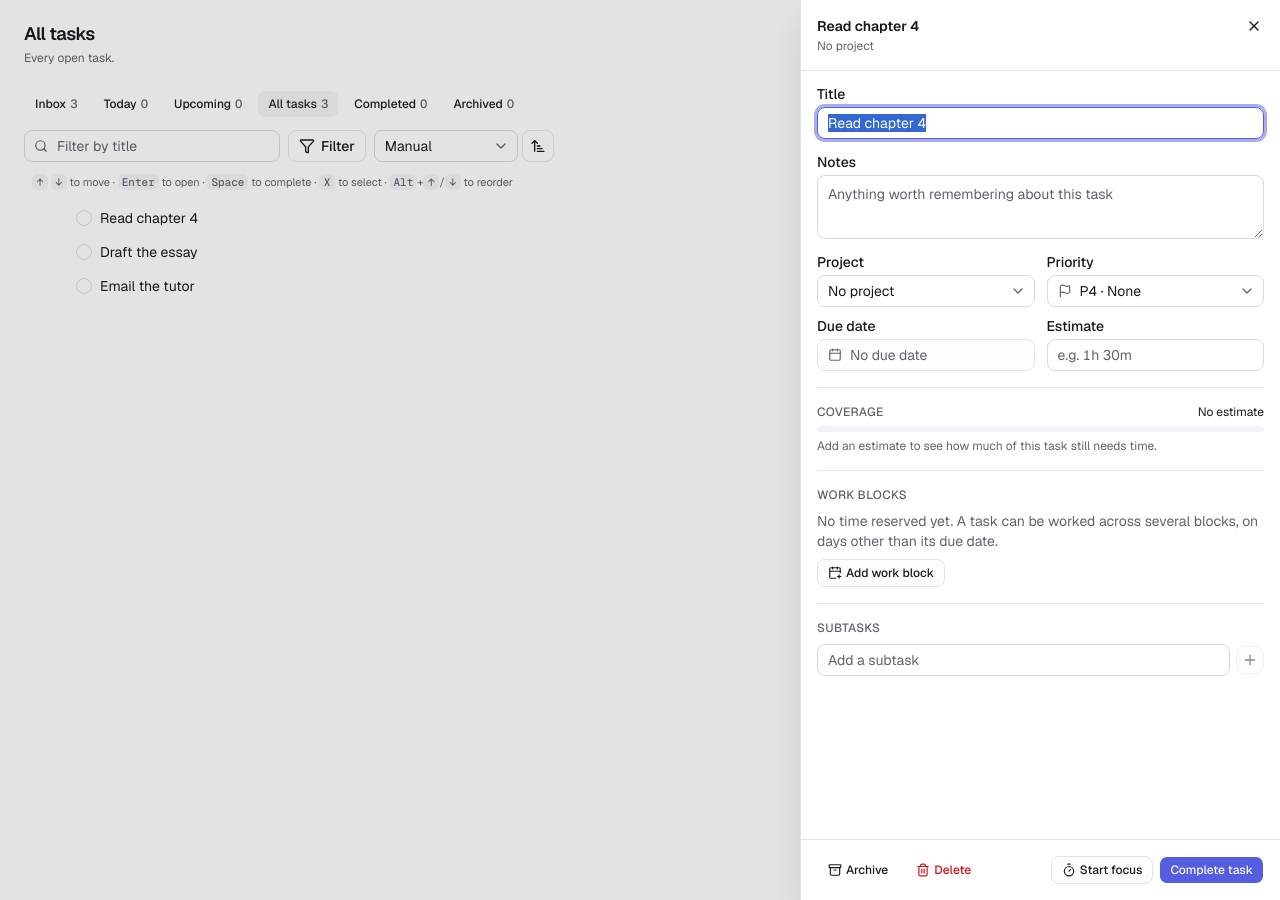
Test: bulk selection › files the open task into a project created from the sheet's picker
Click the dropdown labelled "project": x=926, y=291 [817,275,1034,307]
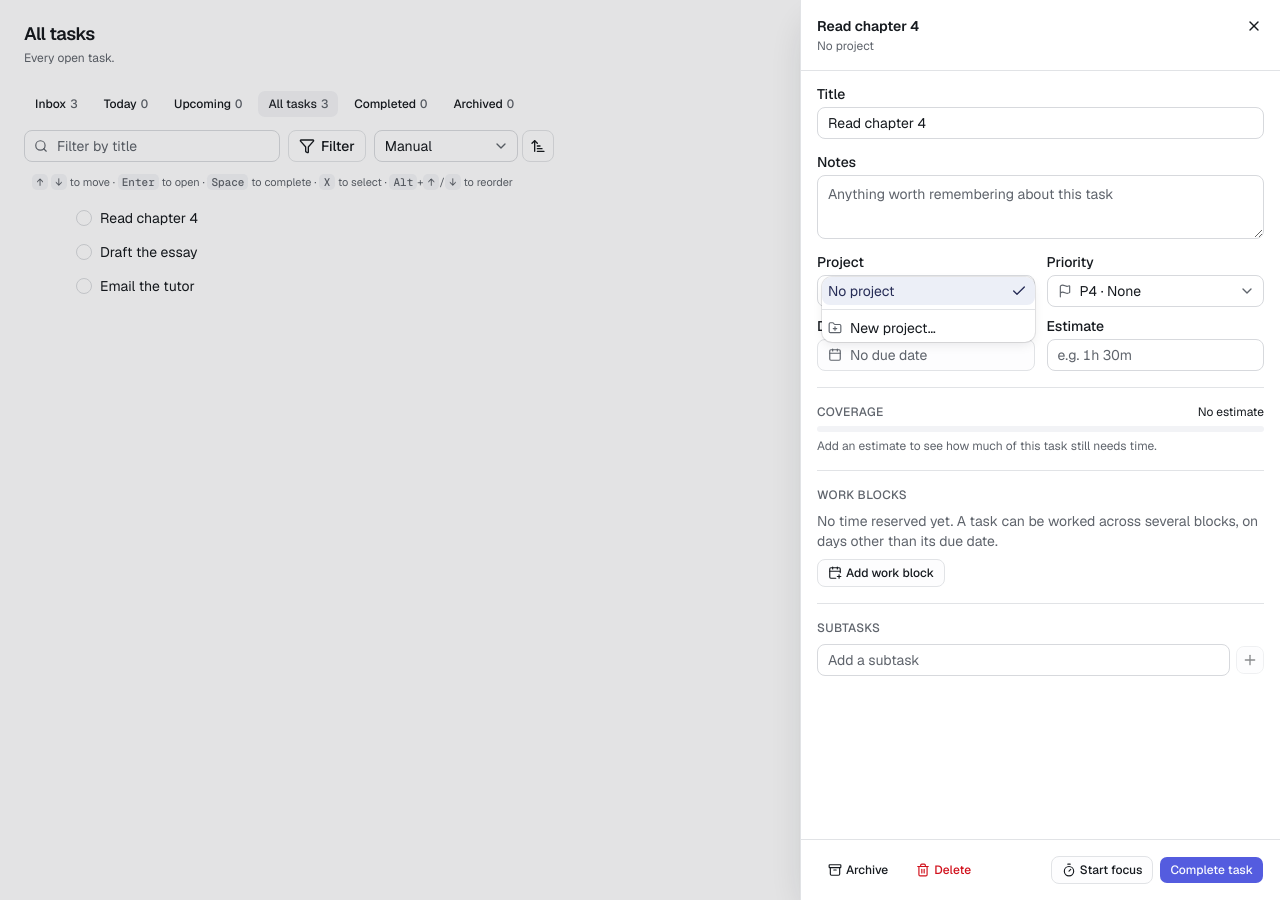
Click the option "New project…": x=882, y=328 [828,319,936,337]
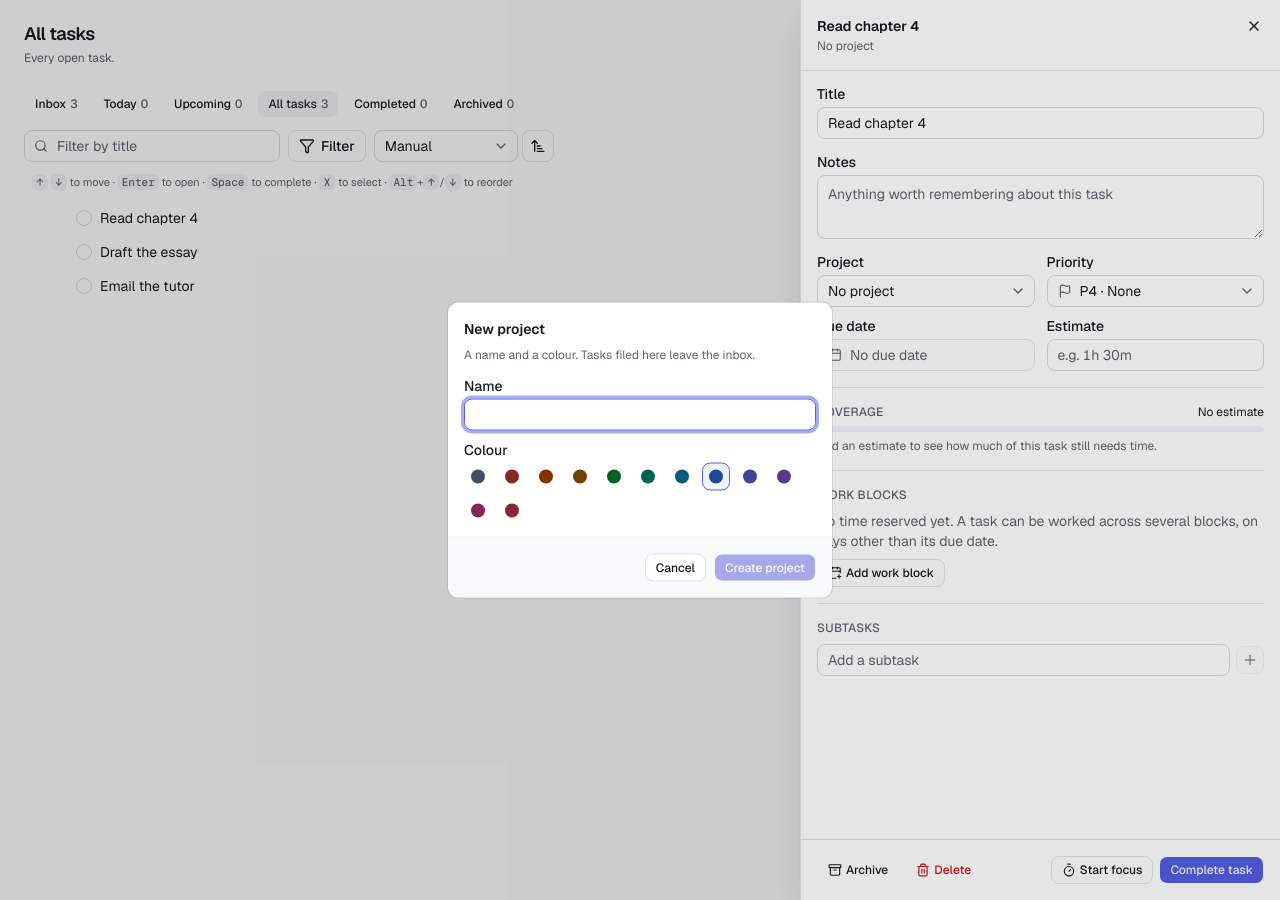
In the field labelled "Name": x=640, y=414 [464,398,816,430], type "Thesis"
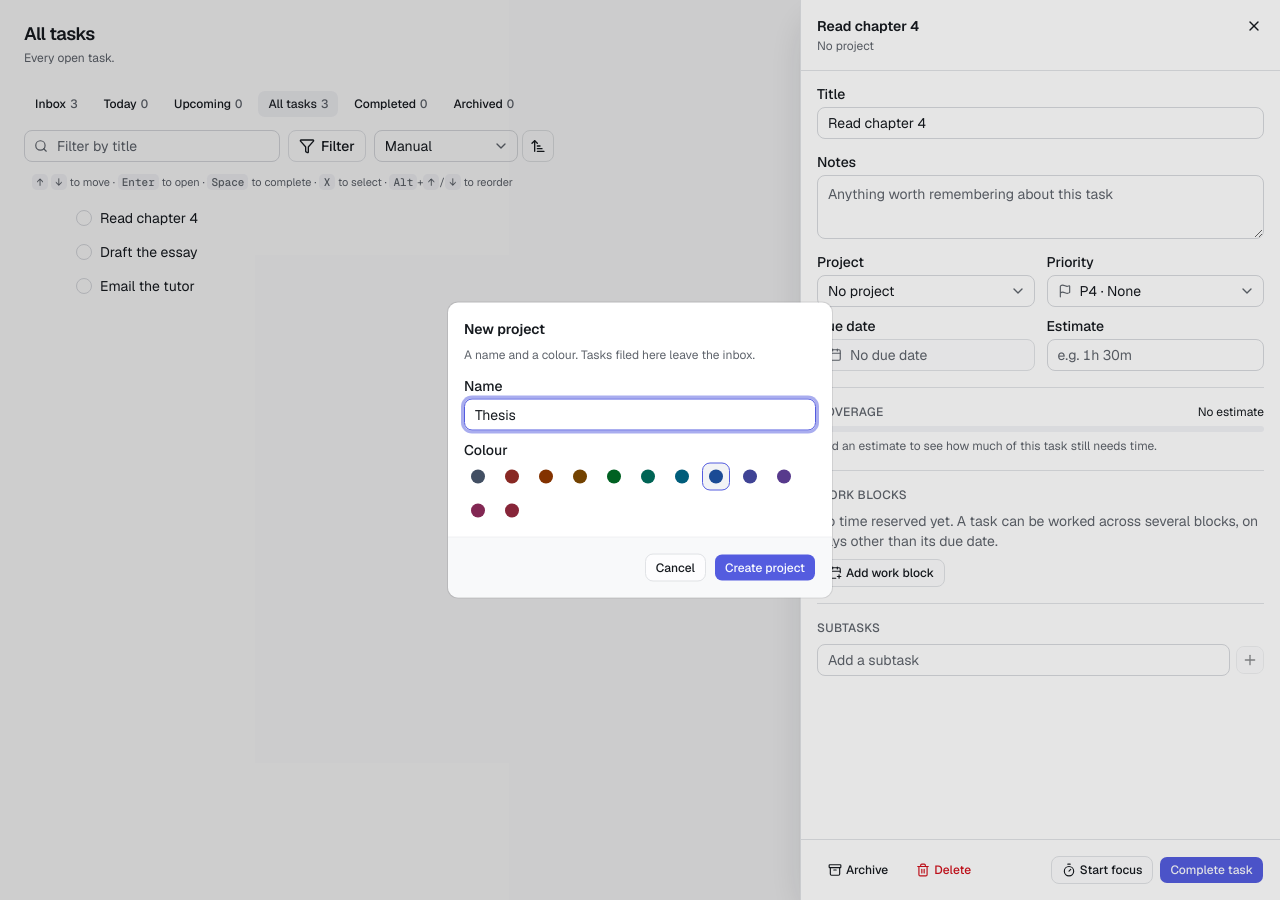
Submit the form, box [464,378,816,582]
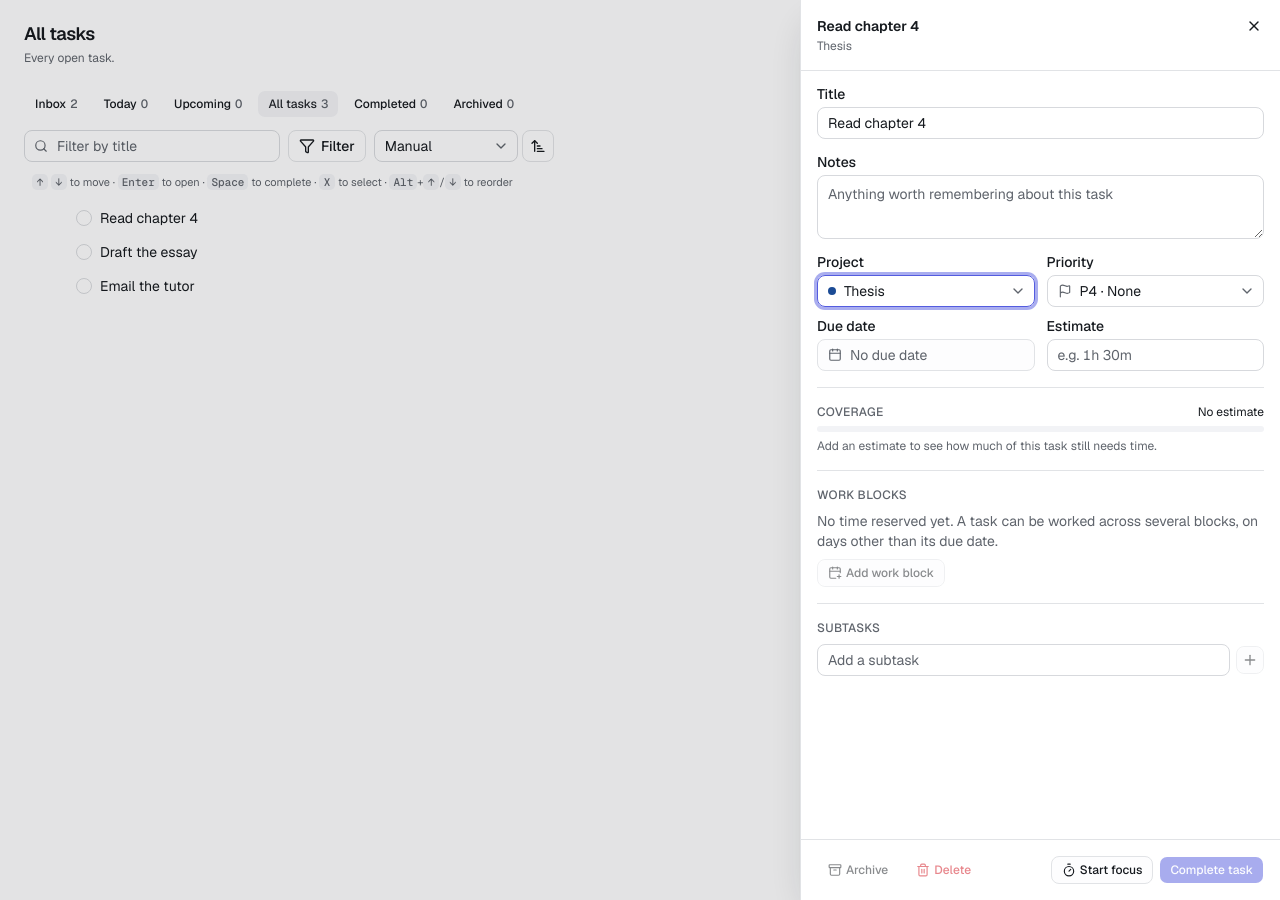
Expected: the heading "New project" is gone
Expected: the dropdown named "Project" reads "Thesis", [817,275,1034,307]
